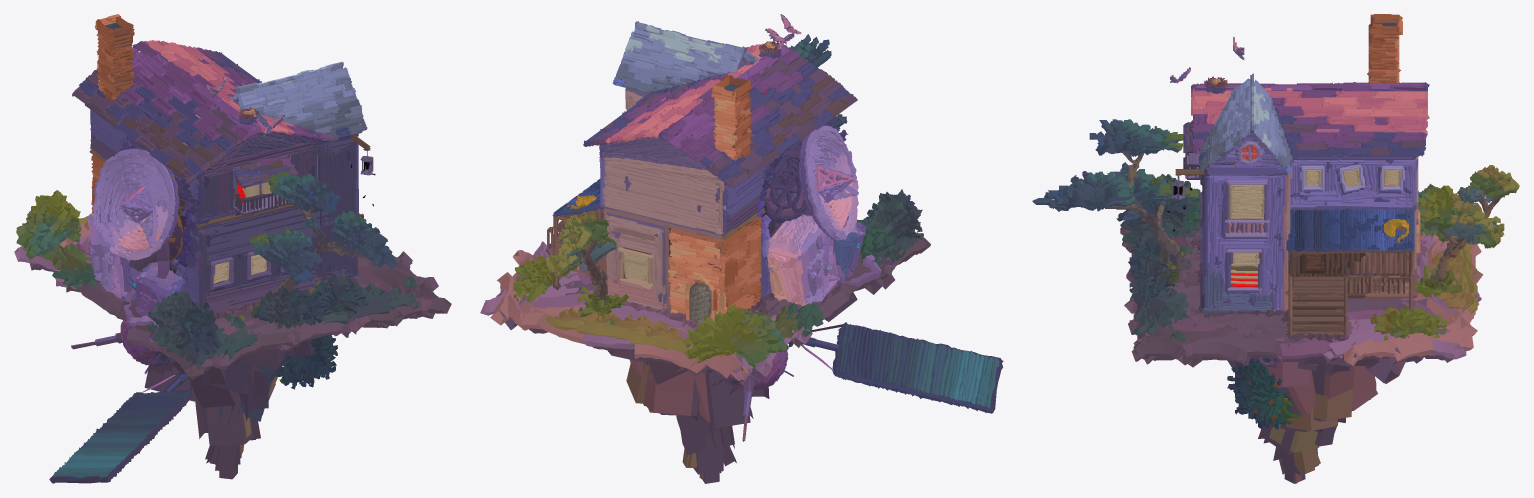
The picture shows the model from 3 angles, left to right: view 1: azimuth 30°, elevation 25°; view 2: azimuth 150°, elevation 25°; view 3: azimuth 270°, elevation 25°; orthographic projection. The views are drawn at different scales.
Visible parts, largest first — view 1: Object_4, Object_171; view 2: Object_4, Object_171; view 3: Object_4, Object_171.
Boxes of the visible parts, x1,y1,x2,y2 form: Object_4: (14,14,451,483); Object_171: (90,135,373,381); Object_4: (480,14,1003,483); Object_171: (622,91,859,281); Object_4: (1032,14,1519,483); Object_171: (1172,168,1401,286).
Size of the model in its own units: 2.6 by 2.78 by 2.87.
Materials: 5 (5 with a texture image).
